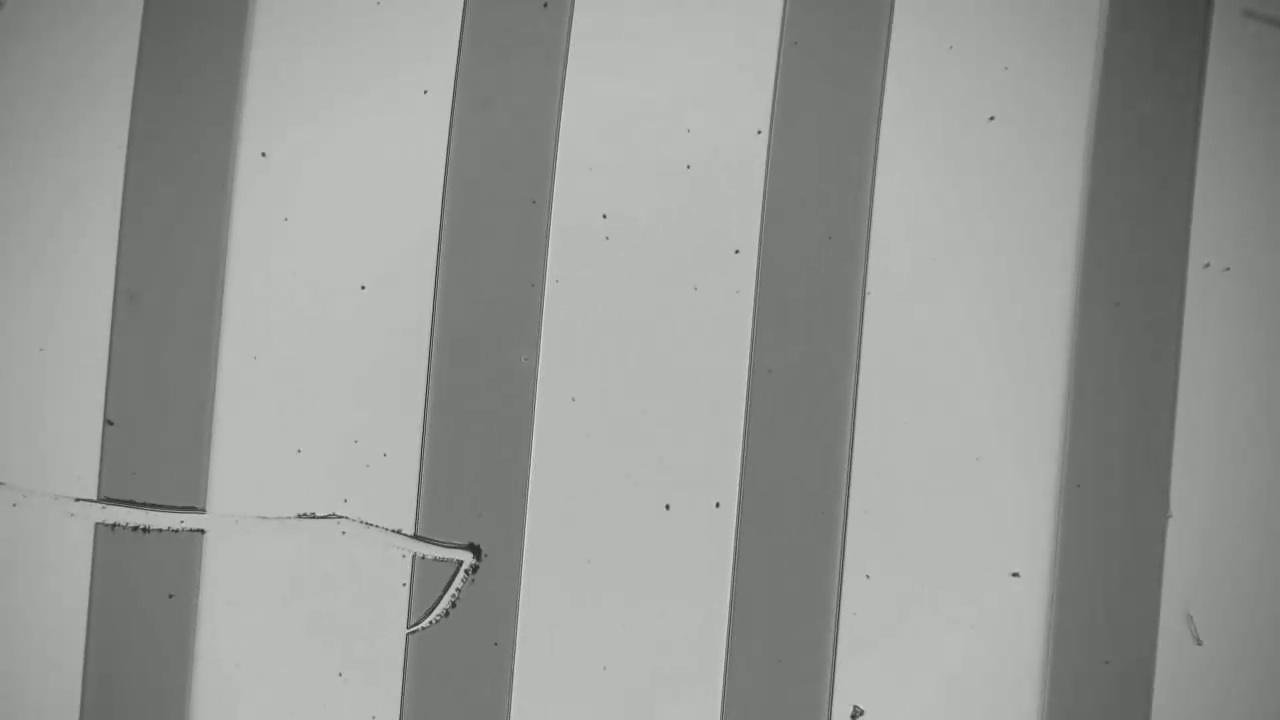Short_circuit: (61, 481, 233, 547), (385, 517, 540, 575)
